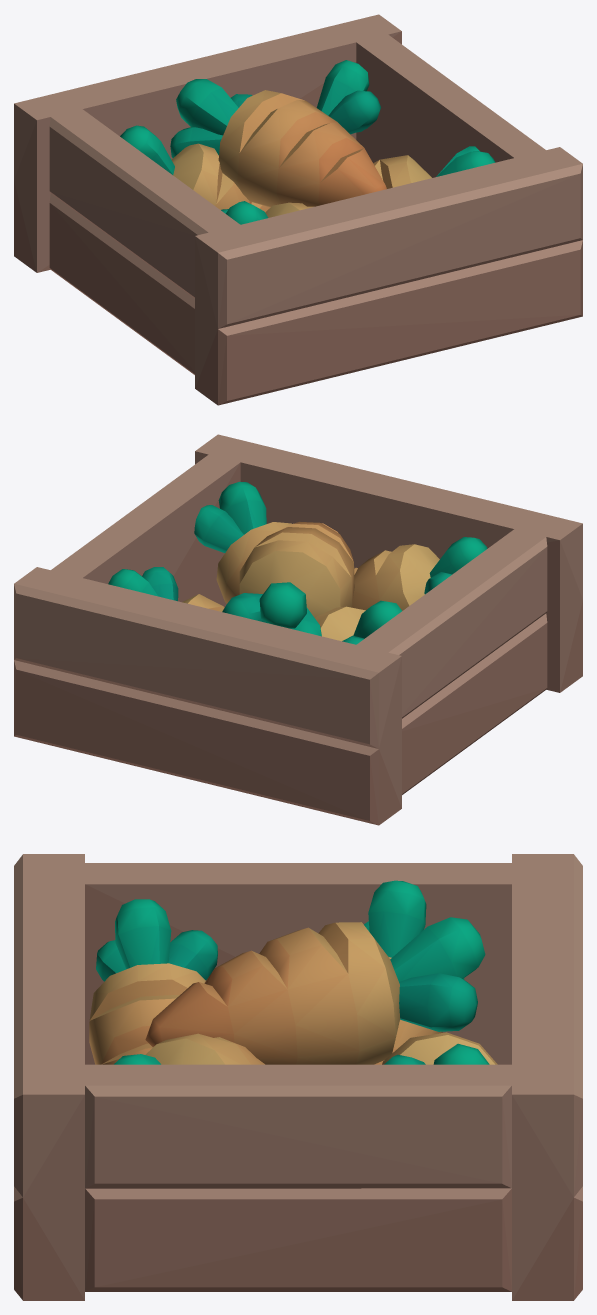
File: caixote_cenoura.fbx
3 renders of one model, top to bottom at view 1: azimuth 30°, elevation 25°; view 2: azimuth 150°, elevation 25°; view 3: azimuth 270°, elevation 25°, orthographic. The views are drawn at different scales.
Visible parts, largest first — view 1: crate_carrots; view 2: crate_carrots; view 3: crate_carrots.
Part boxes in pixels (x1,y1,x2,y2): crate_carrots: (14, 14, 582, 405); crate_carrots: (14, 434, 582, 825); crate_carrots: (14, 854, 582, 1300).
Bounding box in the file's own units: 200 × 94.32 × 200.
